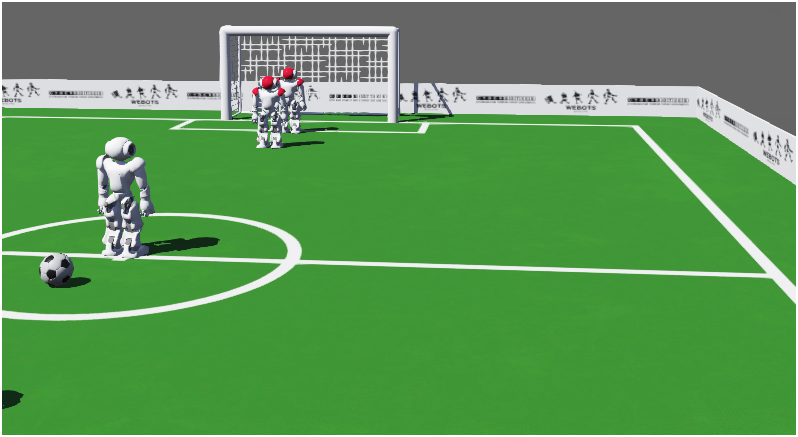Ball: (38, 248, 82, 297)
Goal: (215, 17, 425, 128)
Player: (94, 121, 150, 260), (240, 69, 318, 153)
